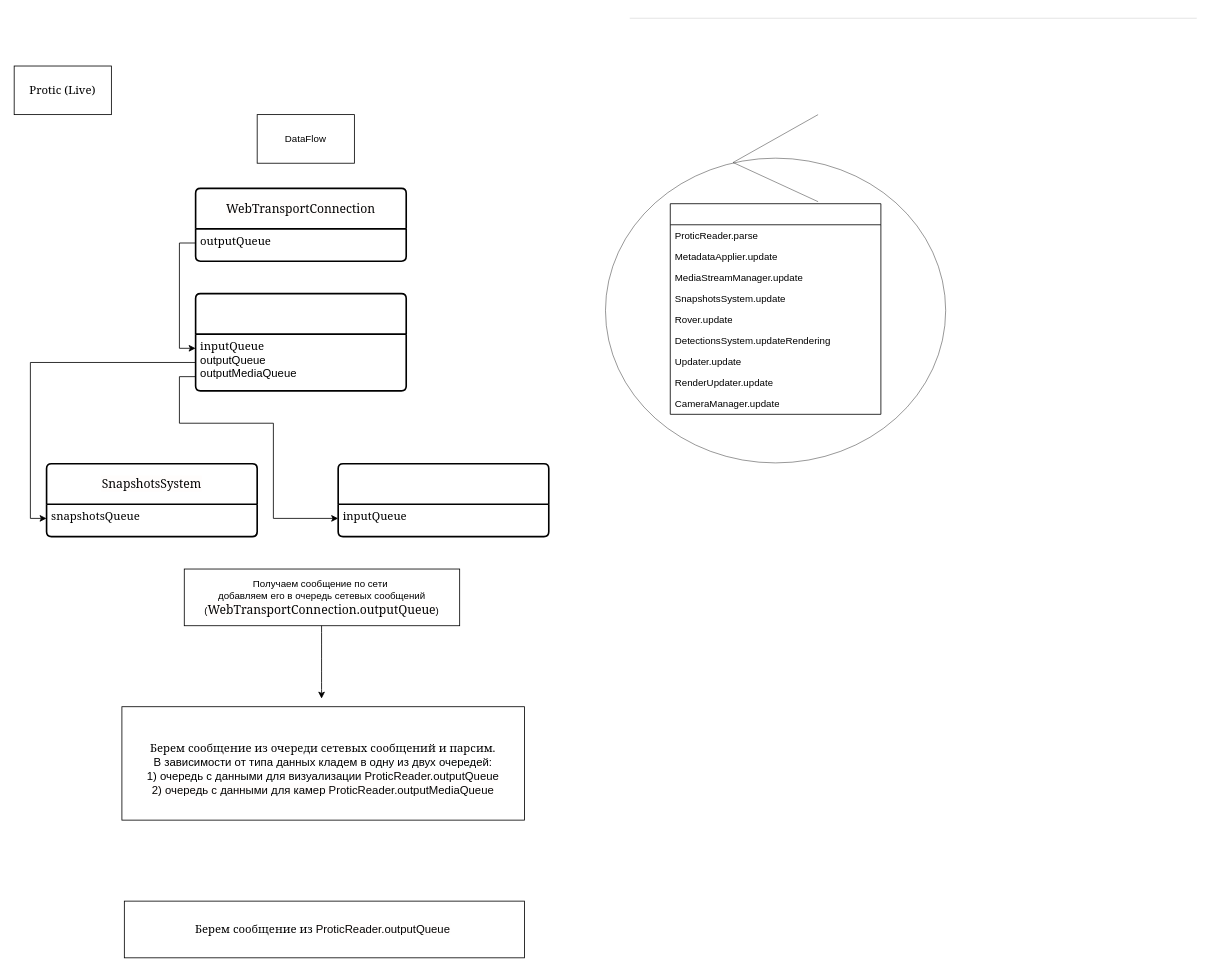
This 1211x972 diagram has some shape labels left out. Each missing label, with the box of its shape:
Core.loopFn: (669, 203, 881, 414)
MediaStreamManager: (337, 463, 549, 537)
ProticReader: (194, 292, 407, 391)
